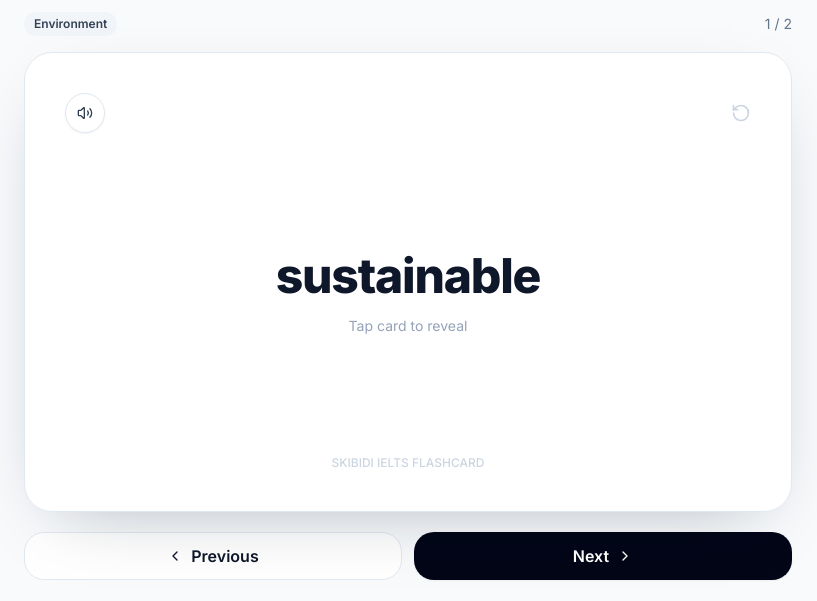
Test: FlashcardDeck › moves to the next vocabulary card
Expected: the text "sustainable" is shown, left=276, top=246, right=540, bottom=305
Click the button "Next".
click(603, 556)  # box left=414, top=532, right=792, bottom=580
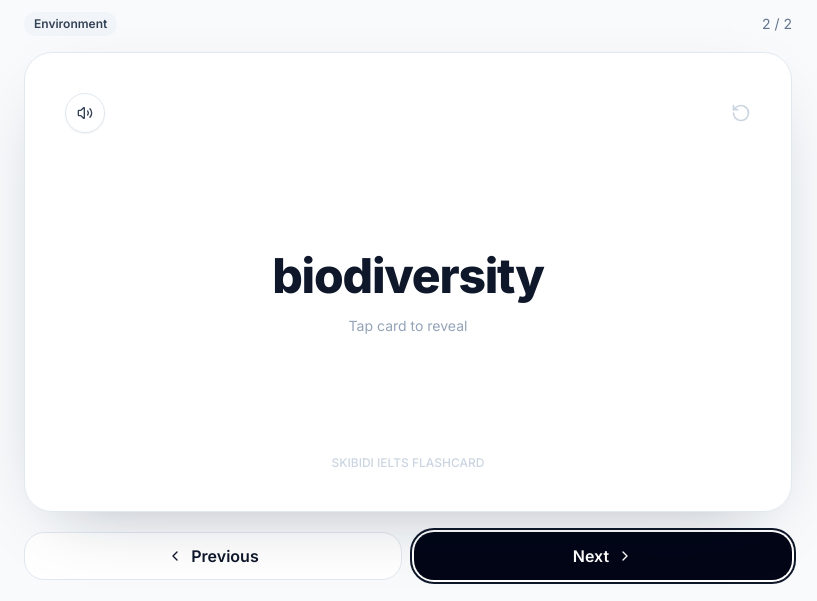
Expected: the text "biodiversity" is shown, left=272, top=246, right=544, bottom=305
